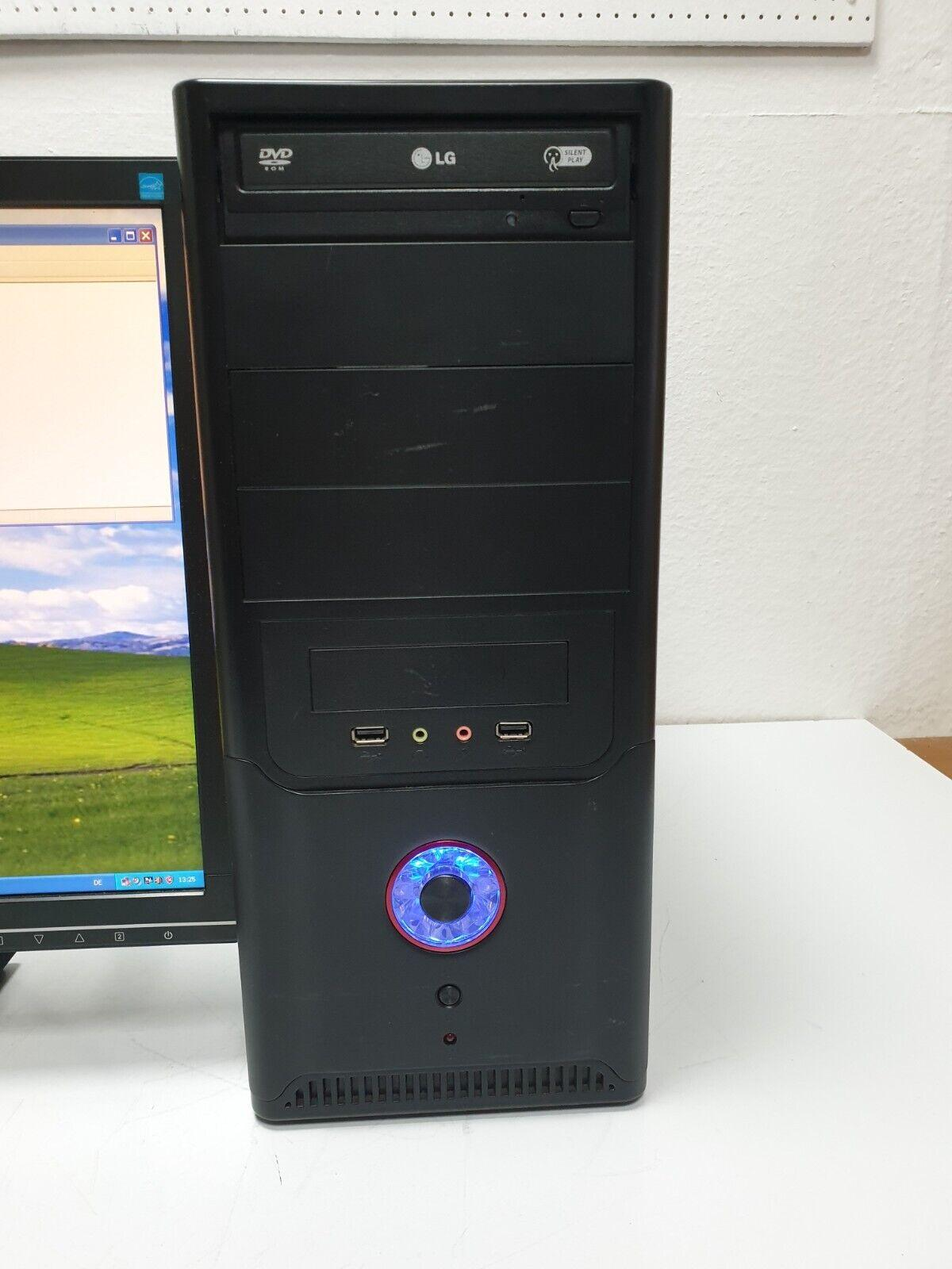computer_monitor: (0, 139, 248, 948)
